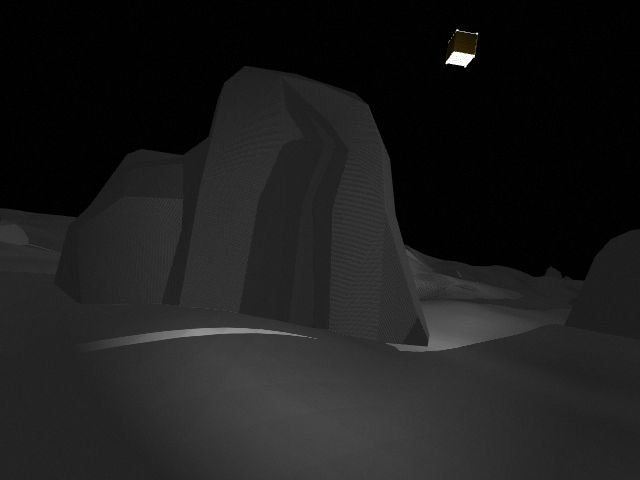cubesat: (442, 26, 481, 69)
